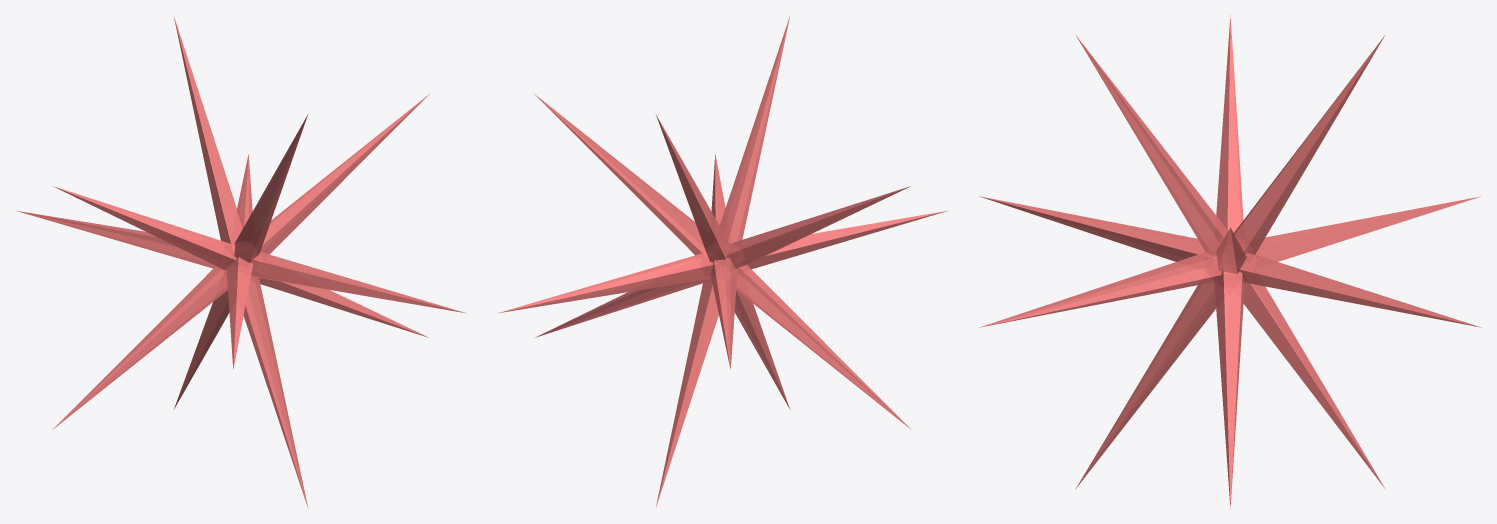
The model's file is MedialInvertedPentagonalHexecontahedron.obj.
3 renders of one model, left to right at view 1: azimuth 30°, elevation 25°; view 2: azimuth 150°, elevation 25°; view 3: azimuth 270°, elevation 25°, orthographic. The views are drawn at different scales.
Size of the model in its own units: 19.8 by 19.8 by 19.8.
